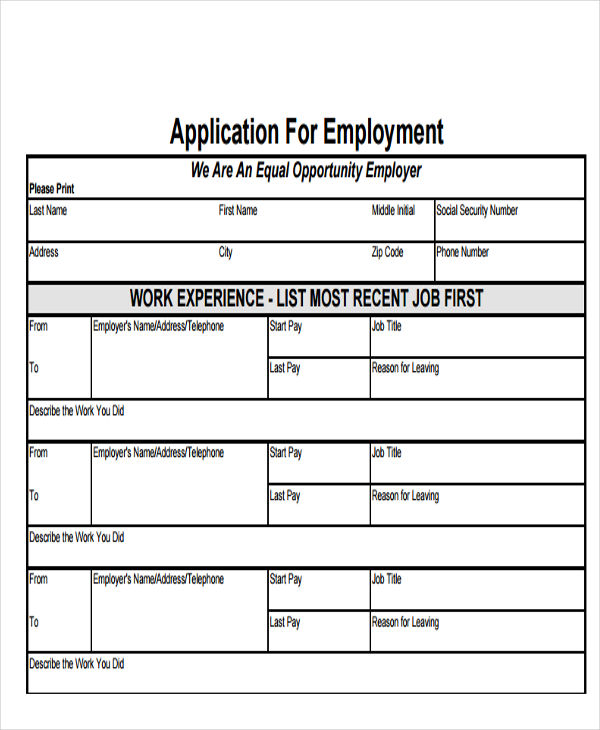table: (27, 156, 582, 693)
